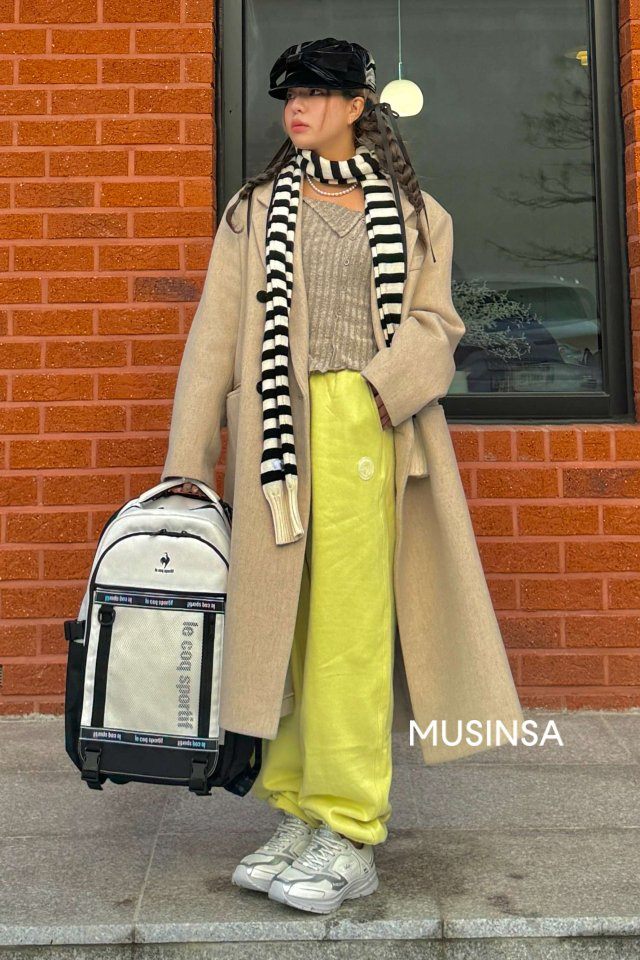Accessories: (304, 181, 362, 200)
Backpack: (61, 464, 264, 803)
Coat: (166, 165, 544, 753)
Hat: (255, 33, 385, 94)
Muffler: (259, 137, 401, 537)
Pants: (272, 368, 403, 843)
Shoes: (233, 800, 385, 928)
